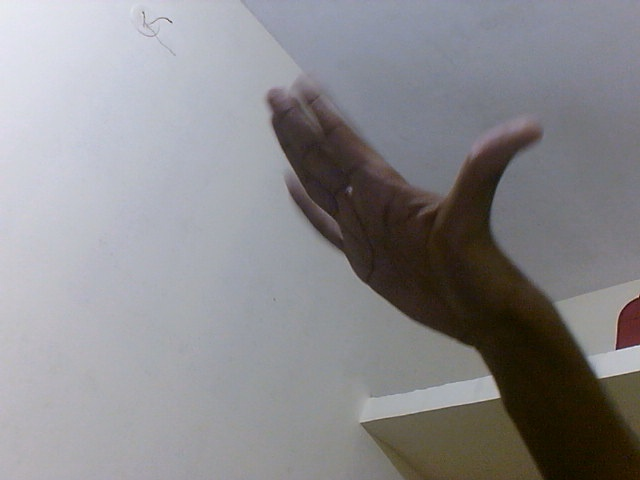hand: (257, 74, 551, 357)
